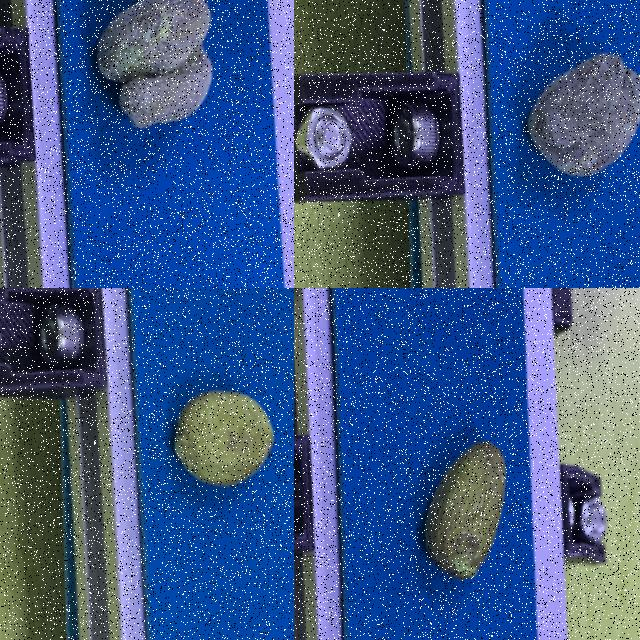Agglomerated_cocoabeans: (454, 0, 639, 287), (48, 0, 263, 229)
Fine_cocoabeans: (139, 306, 287, 569), (383, 391, 531, 639)
